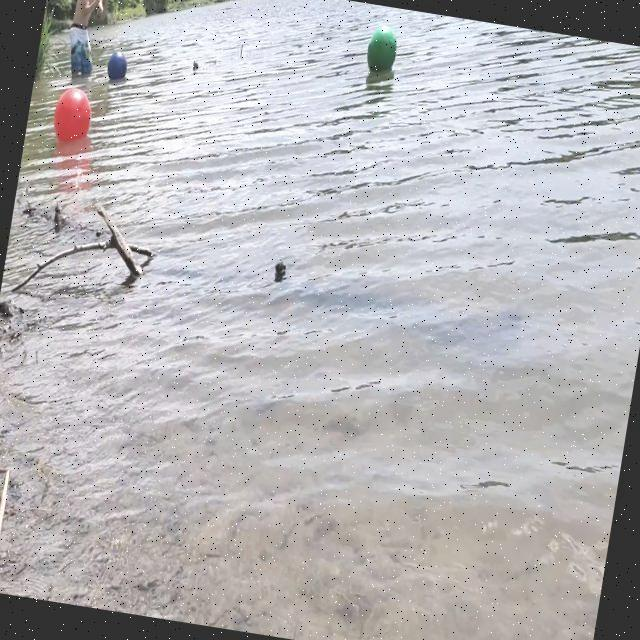buoy: (46, 82, 96, 152), (361, 22, 404, 80), (103, 46, 131, 86)
